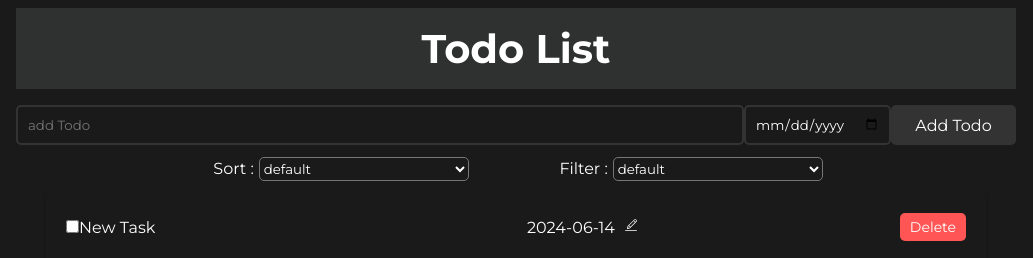
Test case: remove a task
What coordinates should you click on to do the following:
click the button "Delete"
I would click on:
 (933, 227)
Its box is [900,213,966,241].
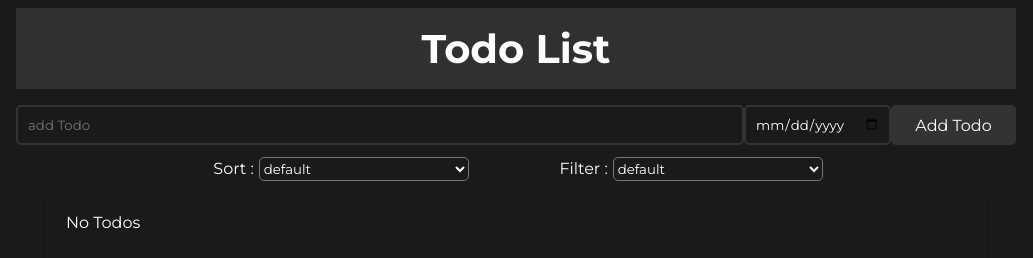
Result: the text "New Task" is gone
